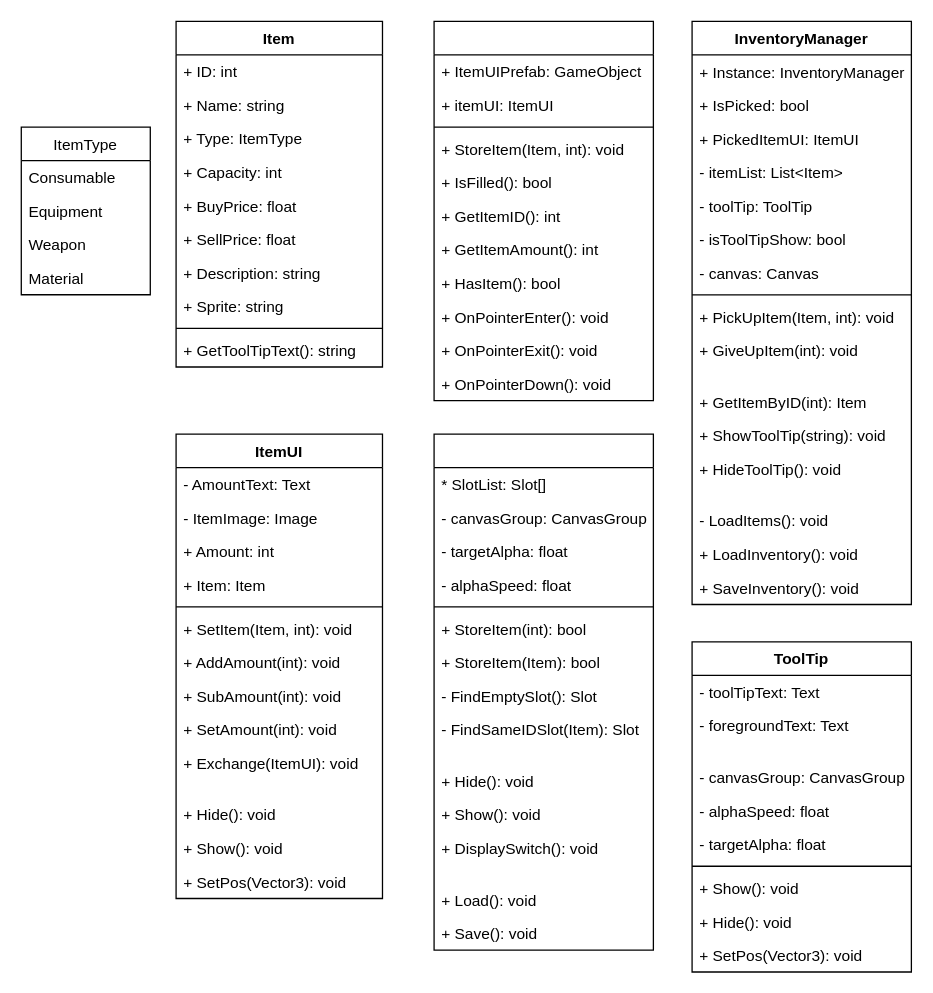
Image size: 933x993. Some labels were removed from this diagram. Each missing label, with the box of its shape:
Inventory: (433, 433, 653, 950)
Slot: (433, 20, 653, 401)
